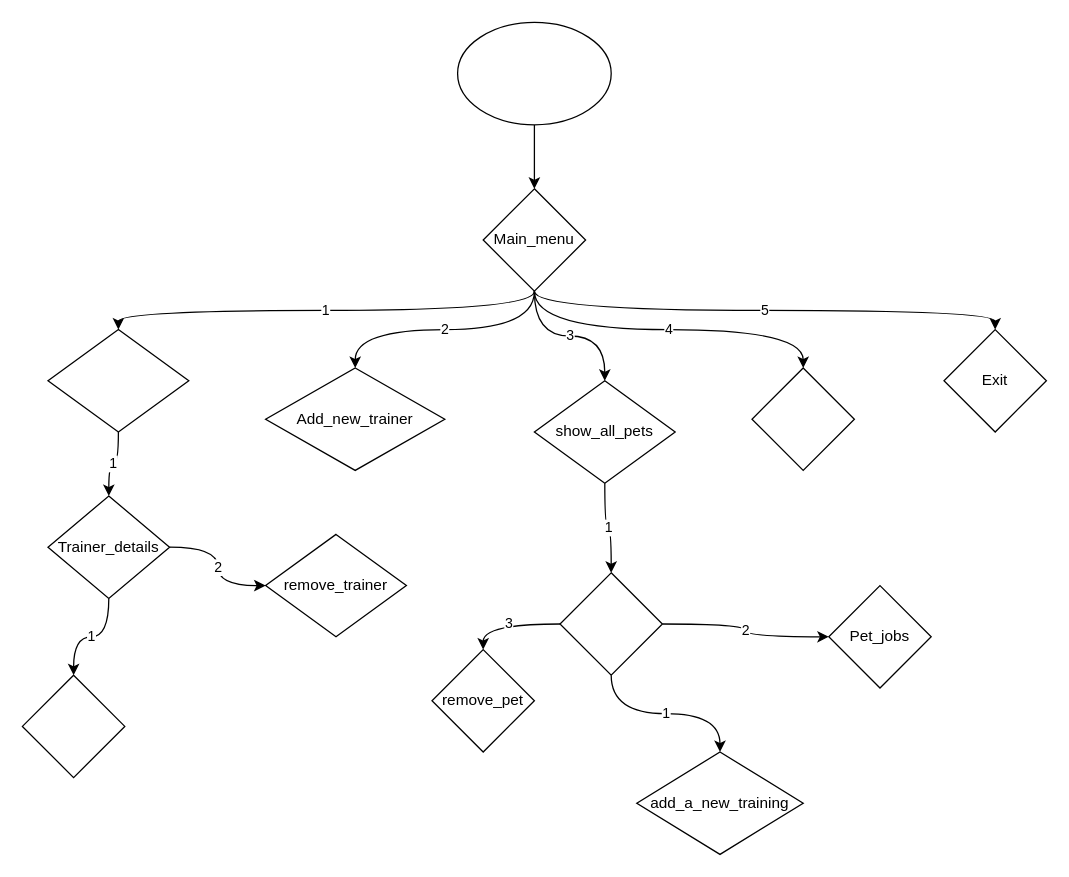
Some shapes in this 1069 by 877 pixel diagram are drawn without their labels. The shapes that lost their labels are listed below. From the top down, each one's box as (x1, y1, x2, y2) in pixels, then its label:
(456, 21, 611, 125): Welcome
(47, 328, 189, 432): Show_all_trainers
(751, 367, 854, 470): add_new_pet
(559, 572, 662, 675): Pet_details
(21, 674, 125, 778): Trainer_jobs
